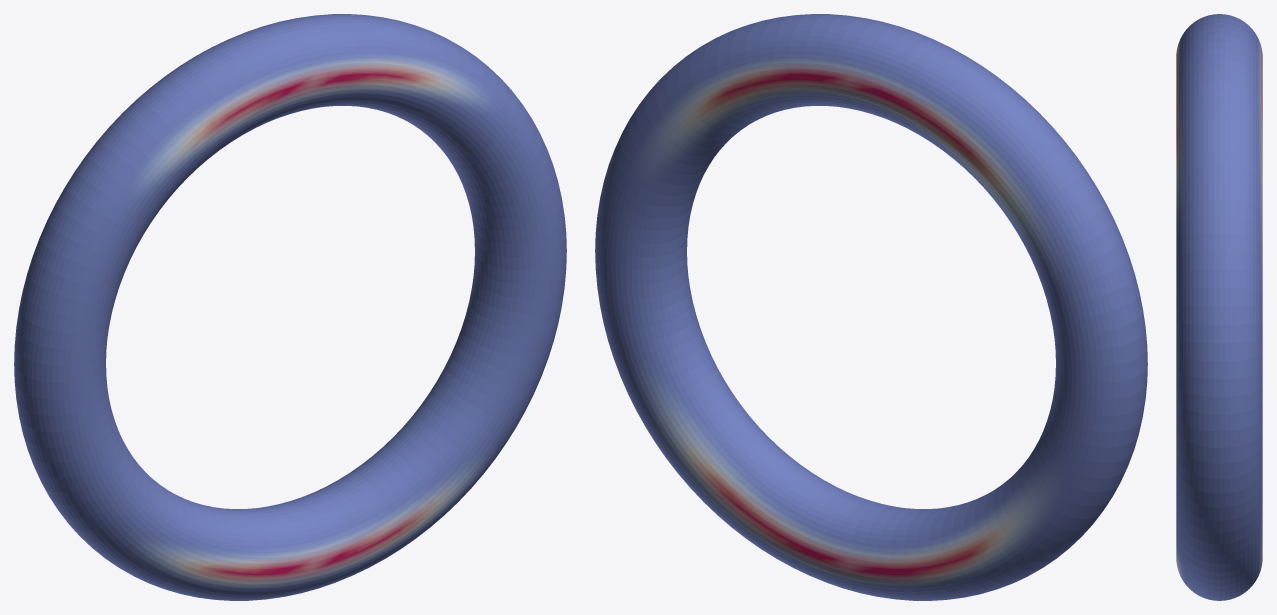
3 renders of one model, left to right at view 1: azimuth 30°, elevation 25°; view 2: azimuth 150°, elevation 25°; view 3: azimuth 270°, elevation 25°, orthographic. The views are drawn at different scales.
Visible parts, largest first — view 1: world; view 2: world; view 3: world.
Boxes of the visible parts, <box> form: world: <box>14,14,566,600</box>; world: <box>595,14,1147,600</box>; world: <box>1176,14,1262,600</box>.
Size of the model in its own units: 17.2 by 17.2 by 2.53.
